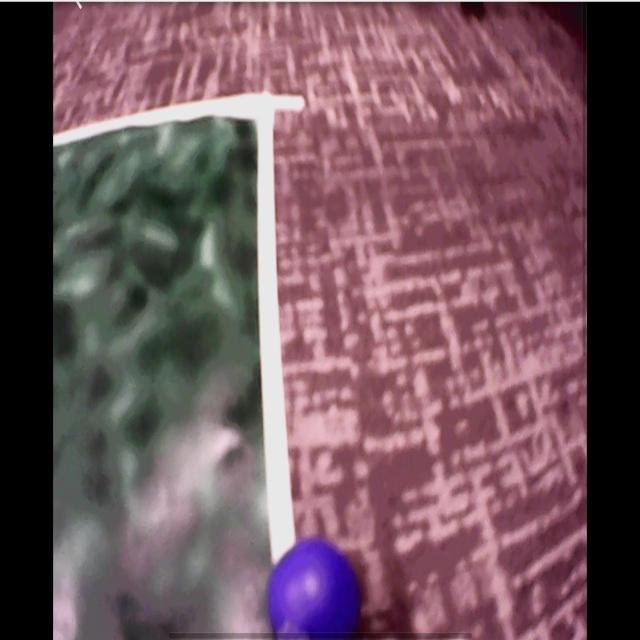ball: (268, 539, 363, 640)
